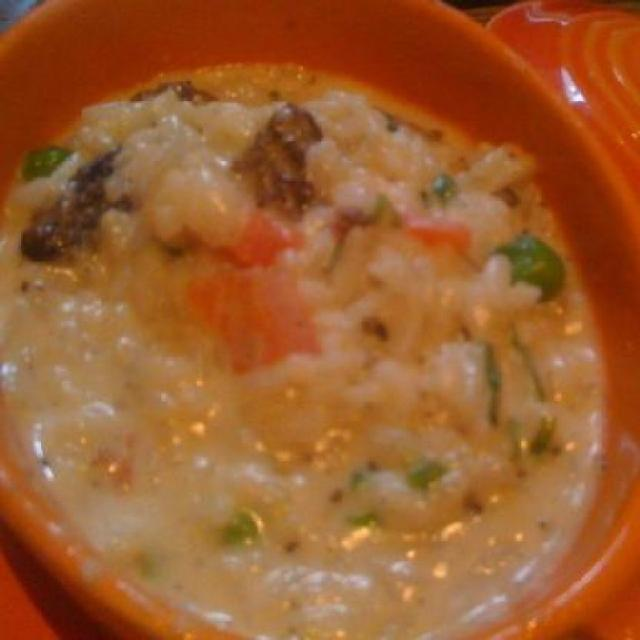Risotto: (30, 81, 582, 625)
